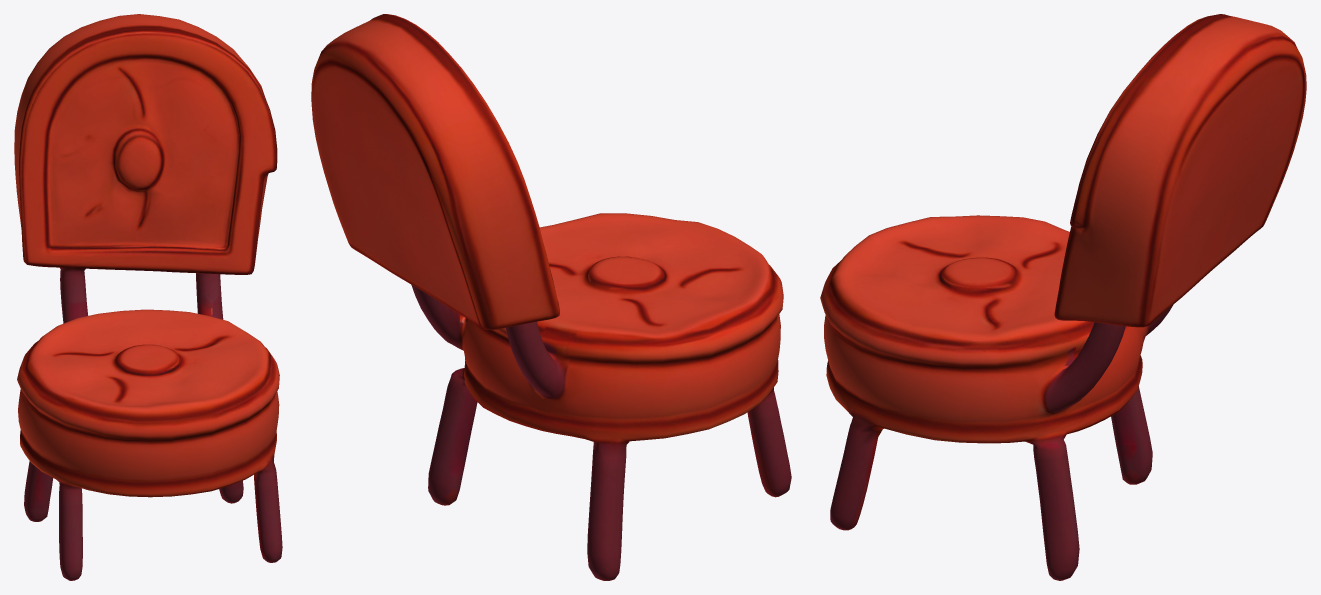
Rendered from silla2.obj.
3 views of the same model, side by side, from view 1: azimuth 30°, elevation 25°; view 2: azimuth 150°, elevation 25°; view 3: azimuth 270°, elevation 25° (orthographic). The views are drawn at different scales.
Visible parts, largest first — view 1: silla2:Mesh1; view 2: silla2:Mesh1; view 3: silla2:Mesh1.
Part boxes in pixels (x1,y1,x2,y2): silla2:Mesh1: [14, 14, 282, 580]; silla2:Mesh1: [311, 14, 791, 580]; silla2:Mesh1: [820, 14, 1306, 580].
Size of the model in its own units: 1.49 by 2.1 by 1.74.
1 material, 1 textured.
